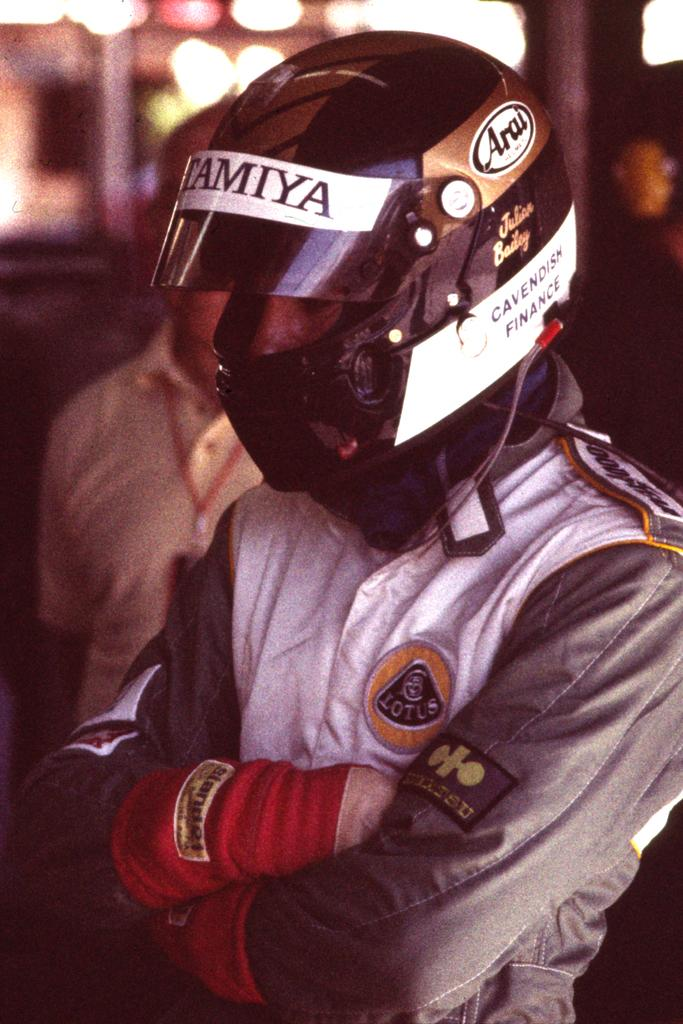helmet: (149, 30, 578, 493)
